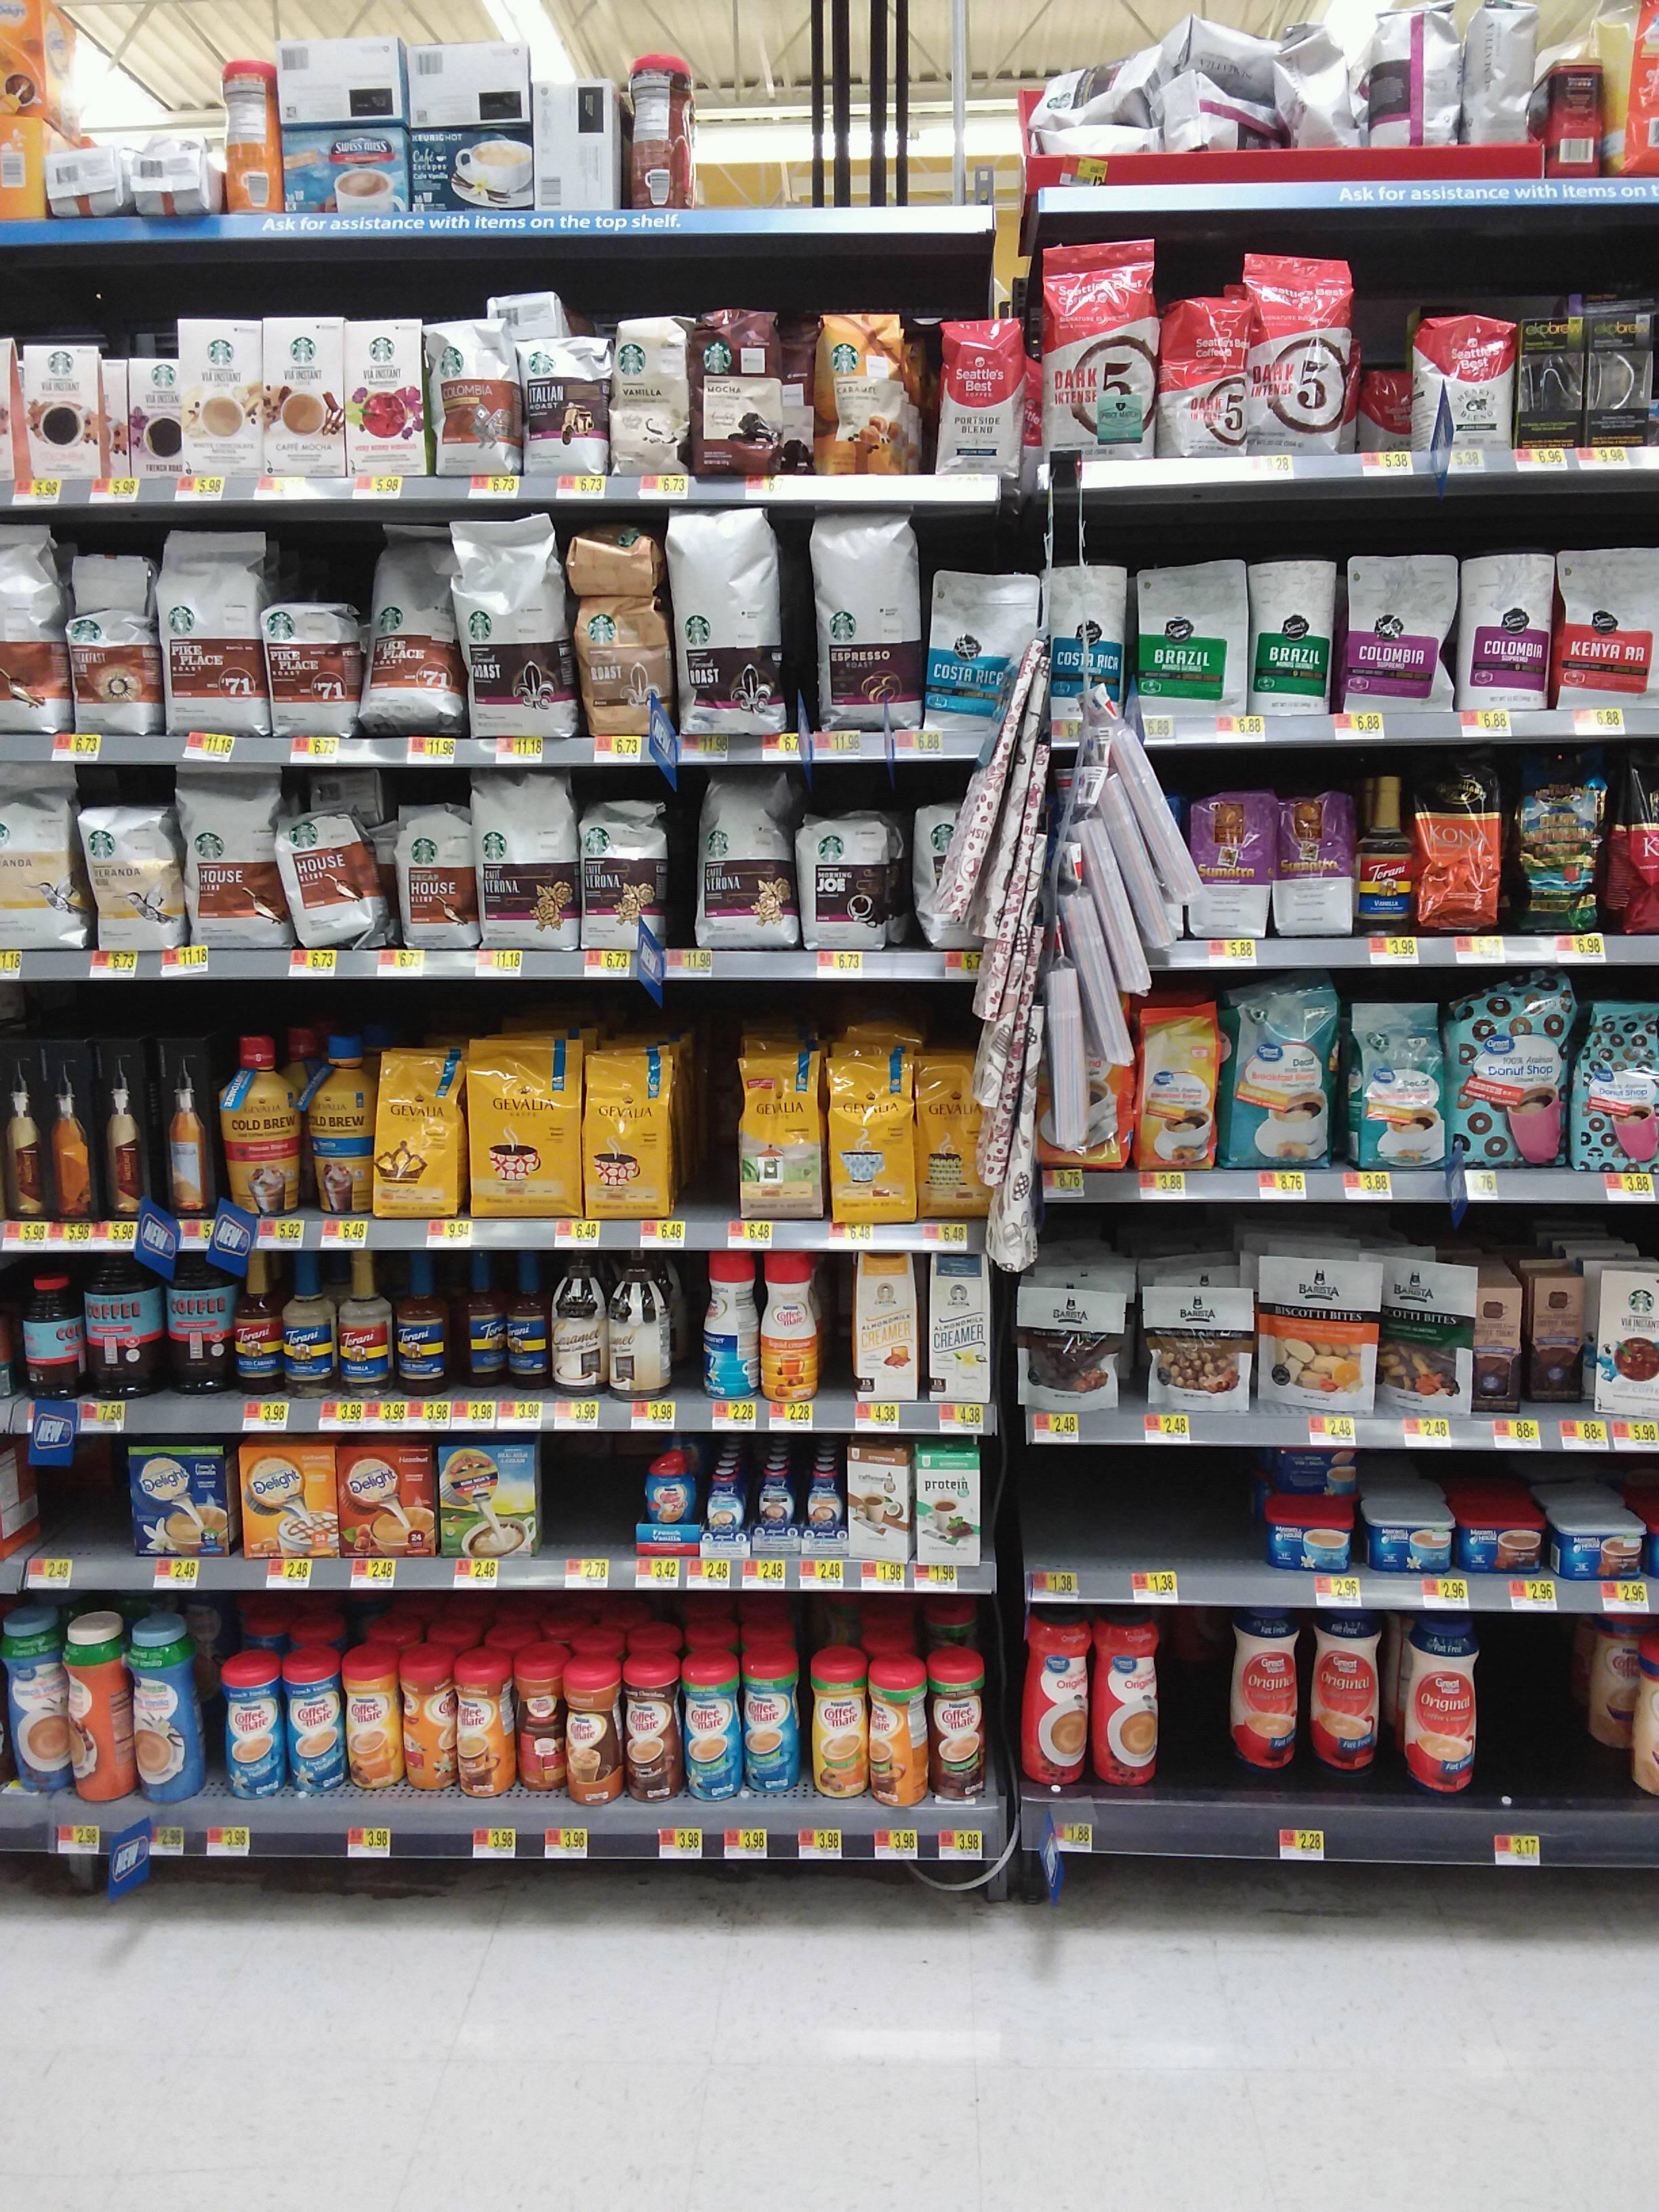empty: (1023, 1460, 1255, 1571), (1481, 1632, 1598, 1806), (671, 1042, 749, 1217), (1168, 1616, 1232, 1791), (545, 1449, 643, 1557), (35, 1456, 132, 1562)
